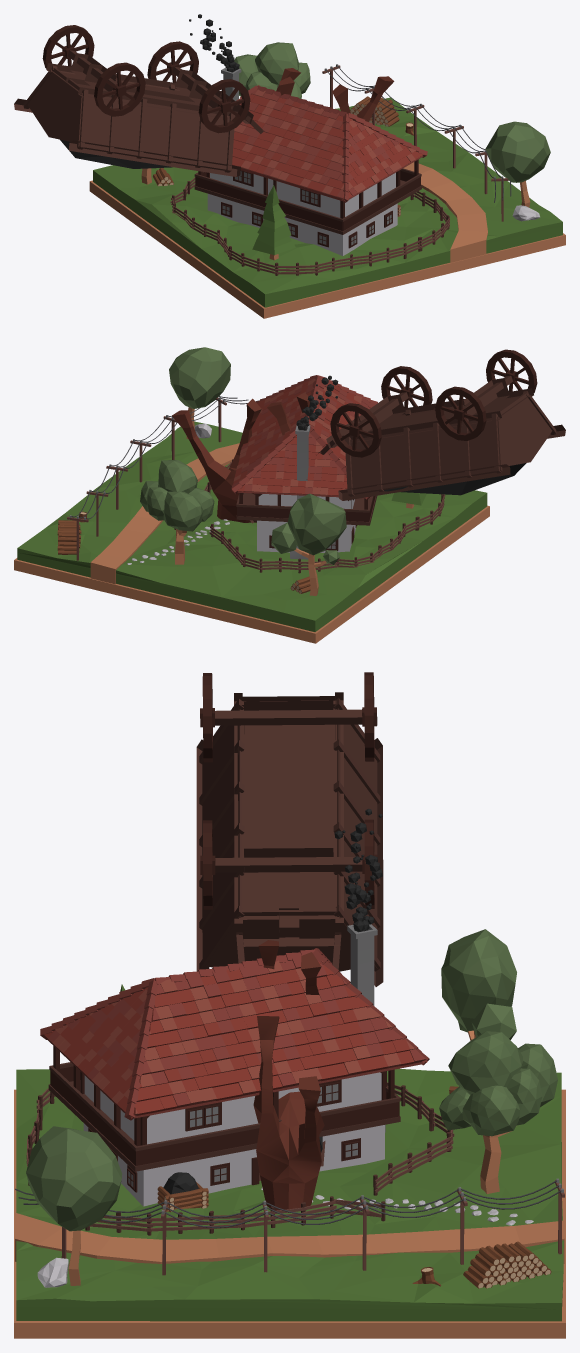
The model's file is Low_Poly_Old_village_house.glb.
The picture shows the model from 3 angles, top to bottom: view 1: azimuth 30°, elevation 25°; view 2: azimuth 150°, elevation 25°; view 3: azimuth 270°, elevation 25°; orthographic projection. The views are drawn at different scales.
Parts seen in each view (by area): view 1: Terren Doska 3_V_0, object 14, Pavlacovy Dom.007_1, Pavlacovy Dom.007_0, Terren Doska 3_S.001_0, Plot_0, Strom 3_0, Road_0, Strom 6.002_0, Cube.984_0, Strom 8_0, Pavlacovy Dom.007_2 (+2 smaller); view 2: Terren Doska 3_V_0, object 14, Pavlacovy Dom.007_1, Terren Doska 3_S.001_0, Pavlacovy Dom.007_0, Strom 6.002_0, Strom 2.003_0, Strom 3_0, Road_0, Plot_0, Cube.984_0, Pavlacovy Dom.007_2 (+3 smaller); view 3: Terren Doska 3_V_0, object 14, Pavlacovy Dom.007_1, Pavlacovy Dom.007_0, Road_0, Terren Doska 3_S.001_0, Strom 6.002_0, Strom 3_0, Strom 2.003_0, Plot_0, Cube.984_0, Pavlacovy Dom.007_2 (+3 smaller).
Boxes of the visible parts, box(x1,y1,x2,y2) form: Terren Doska 3_V_0: box(93, 97, 562, 307); object 14: box(14, 25, 394, 176); Pavlacovy Dom.007_1: box(232, 89, 423, 200); Pavlacovy Dom.007_0: box(194, 67, 423, 255); Terren Doska 3_S.001_0: box(89, 180, 565, 318); Plot_0: box(170, 177, 449, 275); Strom 3_0: box(485, 121, 550, 207); Road_0: box(403, 162, 487, 262); Strom 6.002_0: box(234, 42, 310, 98); Cube.984_0: box(322, 64, 511, 221); Strom 8_0: box(252, 185, 295, 260); Pavlacovy Dom.007_2: box(236, 85, 427, 202); Terren Doska 3_V_0: box(17, 421, 487, 631); object 14: box(172, 349, 565, 523); Pavlacovy Dom.007_1: box(231, 378, 376, 497); Terren Doska 3_S.001_0: box(14, 505, 489, 643); Pavlacovy Dom.007_0: box(236, 425, 377, 559); Strom 6.002_0: box(140, 460, 214, 564); Strom 2.003_0: box(271, 493, 346, 595); Strom 3_0: box(169, 347, 230, 439); Road_0: box(90, 443, 239, 584); Plot_0: box(204, 459, 445, 573); Cube.984_0: box(67, 396, 258, 560); Pavlacovy Dom.007_2: box(231, 375, 377, 499); Terren Doska 3_V_0: box(16, 1068, 563, 1321); object 14: box(196, 672, 383, 1212); Pavlacovy Dom.007_1: box(44, 954, 427, 1117); Pavlacovy Dom.007_0: box(45, 924, 425, 1206); Road_0: box(15, 1212, 564, 1263); Terren Doska 3_S.001_0: box(14, 1089, 565, 1338); Strom 6.002_0: box(439, 1031, 557, 1193); Strom 3_0: box(26, 1126, 122, 1285); Strom 2.003_0: box(441, 929, 516, 1040); Plot_0: box(26, 1082, 454, 1235); Cube.984_0: box(15, 1178, 564, 1275); Pavlacovy Dom.007_2: box(40, 948, 429, 1120).
Bounding box in the file's own units: 11.55 × 6.51 × 7.98.
Materials: 3 (3 with a texture image).
